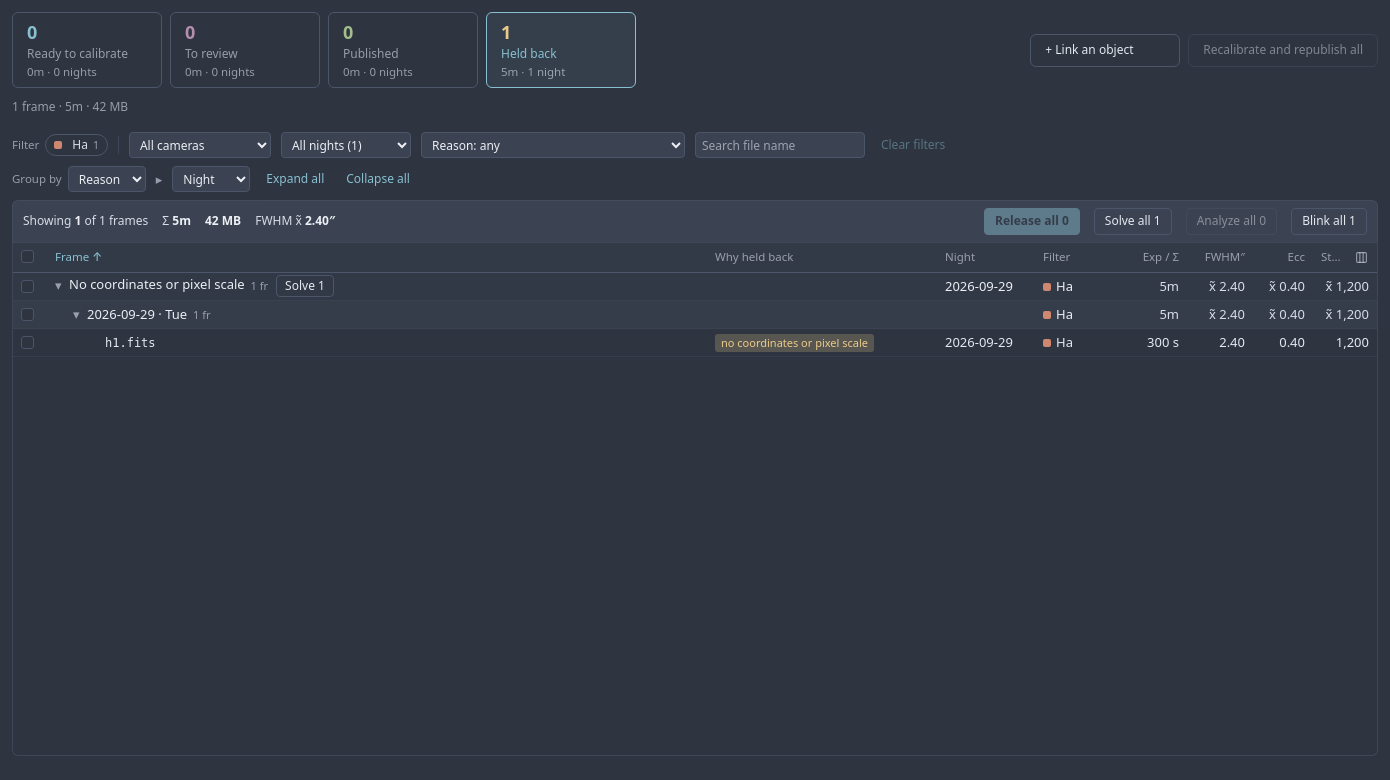
Test case: MyFramesTab — solve failure notifies › 6. a failed plate_solve_batch raises a warning notification titled "Could not start the solve"
The image size is (1390, 780).
Click the button "Solve 1".
click(305, 286)  # box [276,275,334,297]
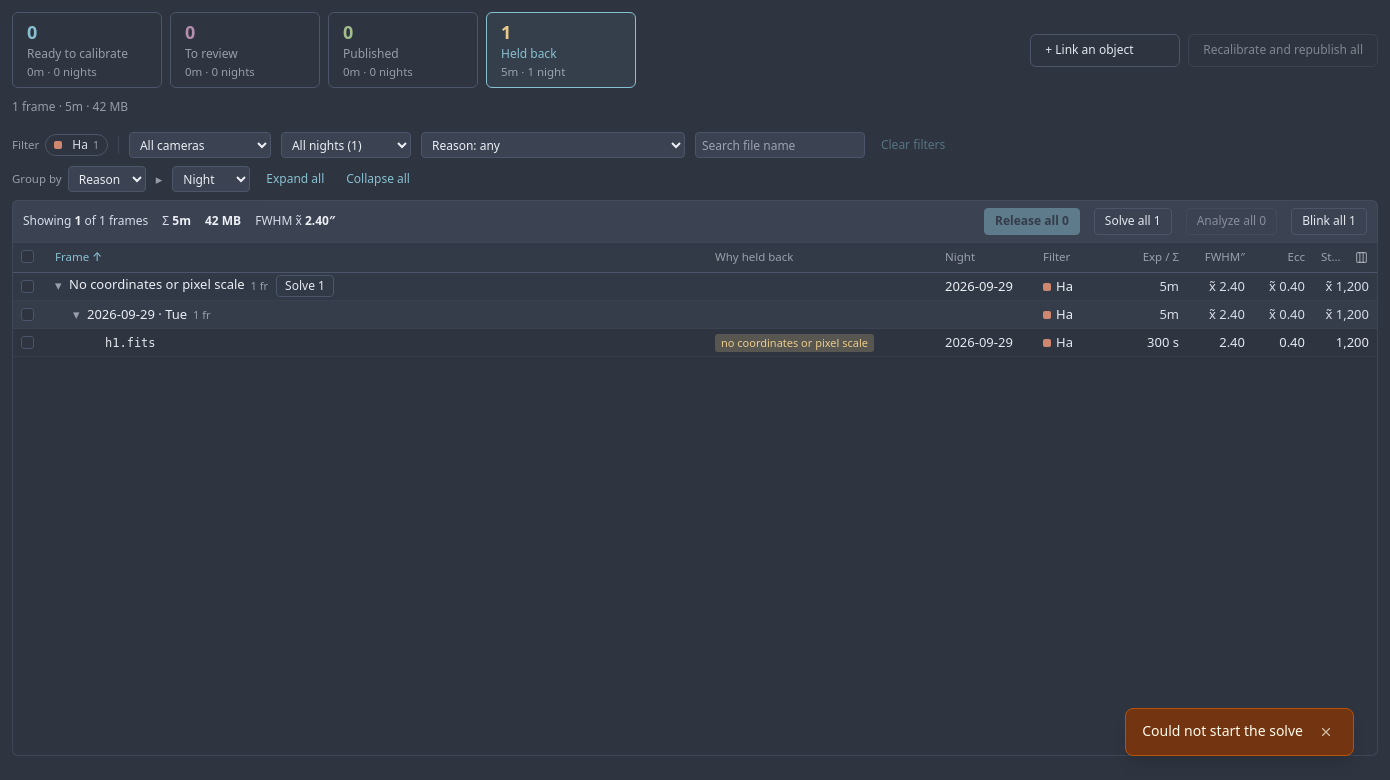
Expected: the message reads "Could not start the solve", [1142,721,1303,740]
